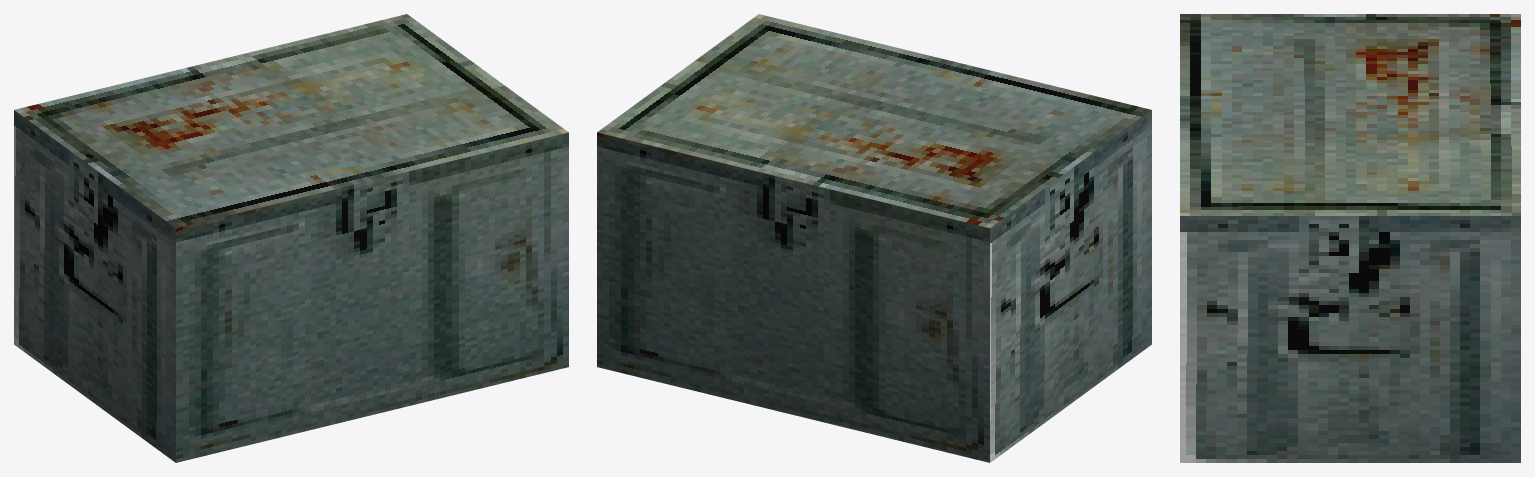
File: ammo_box_large.glb
3 renders of one model, left to right at view 1: azimuth 30°, elevation 25°; view 2: azimuth 150°, elevation 25°; view 3: azimuth 270°, elevation 25°, orthographic. The views are drawn at different scales.
Parts seen in each view (by area): view 1: Cube; view 2: Cube; view 3: Cube.
Part boxes in pixels (bbox=[...]): Cube: bbox=[14, 14, 568, 462]; Cube: bbox=[597, 14, 1151, 462]; Cube: bbox=[1180, 14, 1520, 462].
Bounding box in the file's own units: 0.4207 × 0.24 × 0.3.
Materials: 1 (1 with a texture image).
